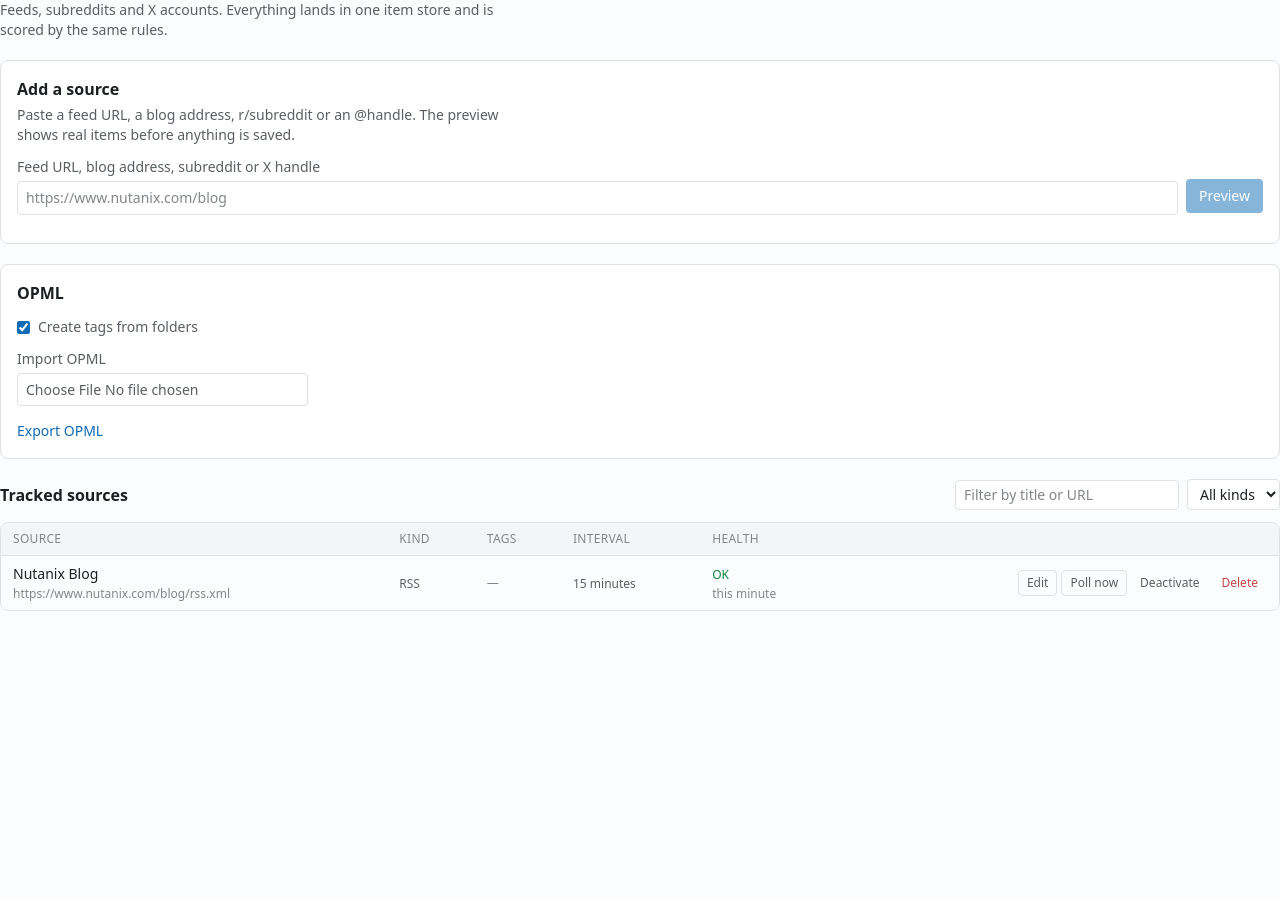
Test: editing a source › refuses a weight outside the range the API accepts
Click the button "Edit": [1038, 583] box [1018, 570, 1057, 596]
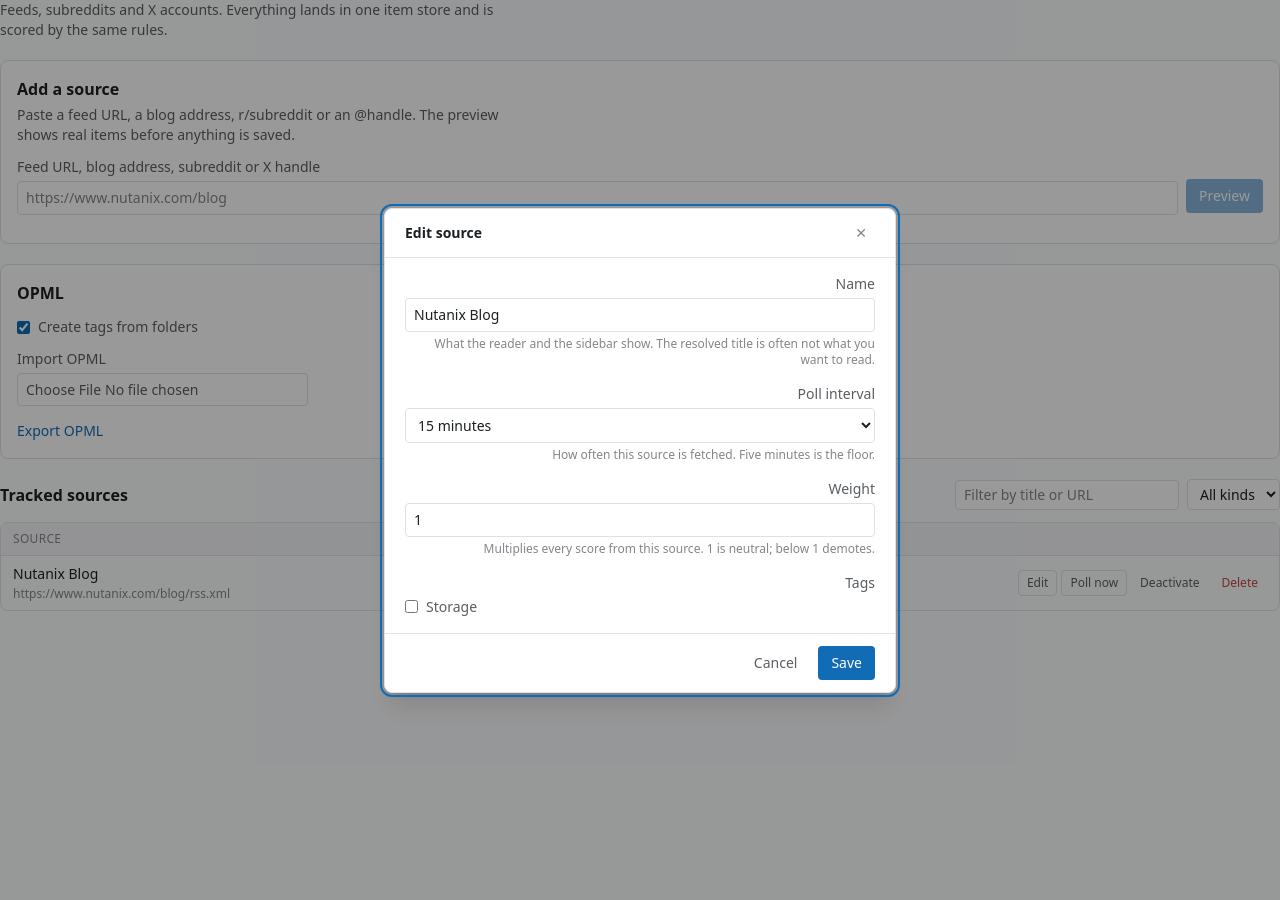
Replace the text in the number field labelled "Weight" with "42": [640, 520] box [405, 502, 875, 536]
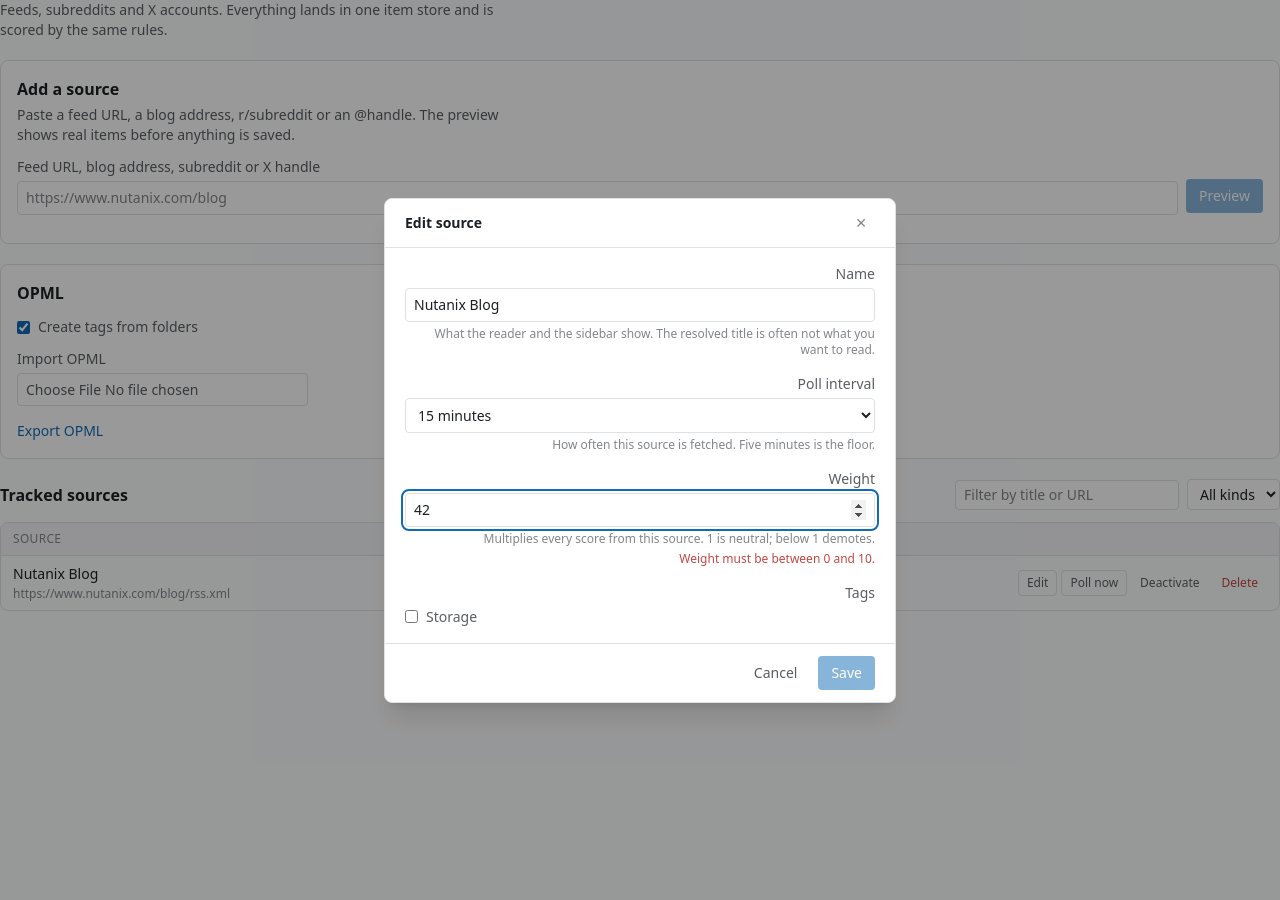
Expected: the text "Weight must be between 0 and 10." is shown, [679, 550, 875, 566]
Expected: the button "Save" is disabled, [818, 656, 875, 690]
